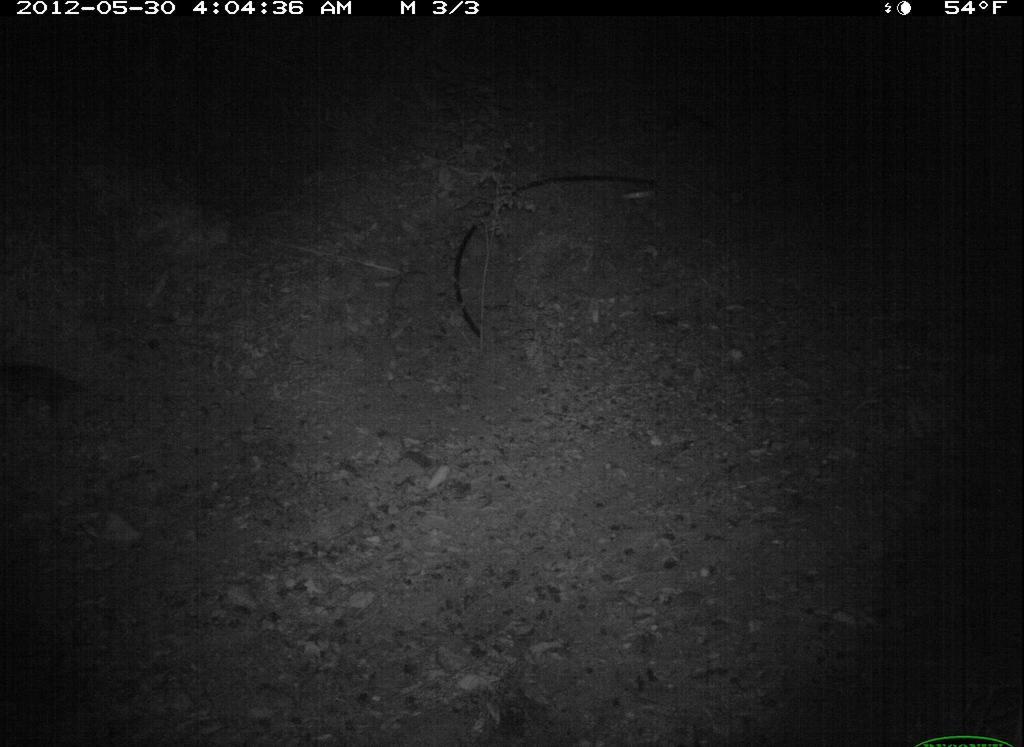opossum: (1, 359, 110, 431)
